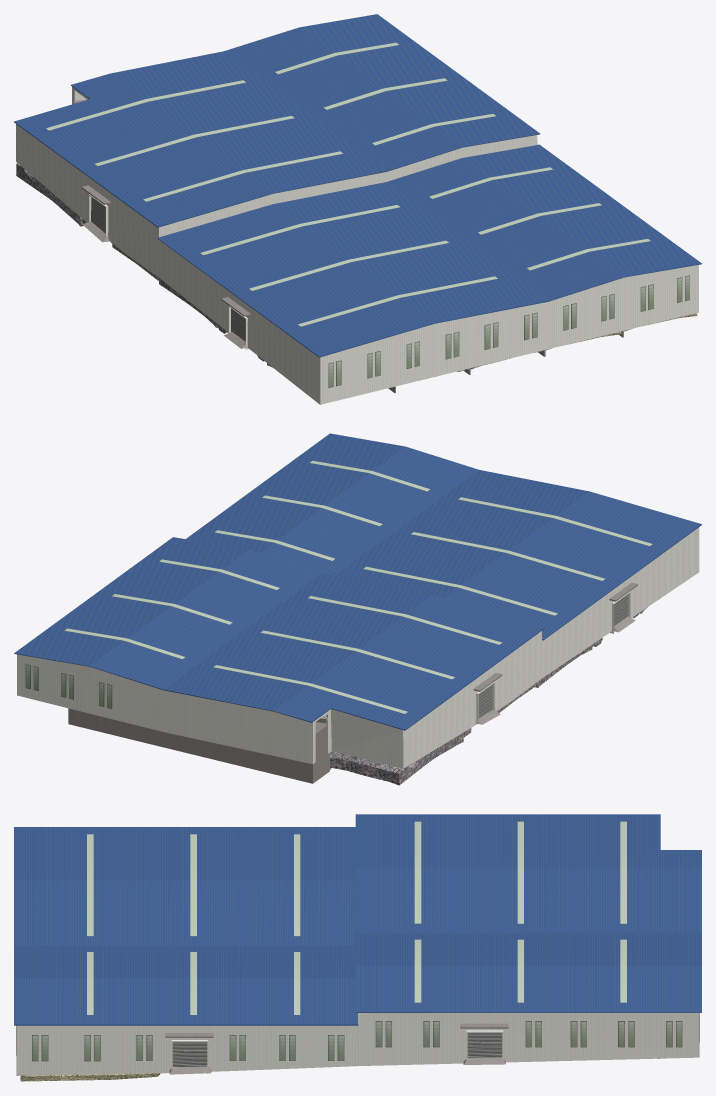
Rendered from 堆石厂.glb.
3 renders of one model, top to bottom at view 1: azimuth 30°, elevation 25°; view 2: azimuth 150°, elevation 25°; view 3: azimuth 270°, elevation 25°, orthographic. The views are drawn at different scales.
Visible parts, largest first — view 1: 堆石场一房顶, 堆石场一外墙; view 2: 堆石场一房顶, 堆石场一外墙, 堆石分离格子, 堆石LED1石头100; view 3: 堆石场一房顶, 堆石场一外墙, 堆石LED17石头100.
Part boxes in pixels (<box>): 堆石场一房顶: <box>14,14,701,357</box>; 堆石场一外墙: <box>16,86,698,404</box>; 堆石场一房顶: <box>14,433,701,730</box>; 堆石场一外墙: <box>17,527,699,768</box>; 堆石分离格子: <box>68,686,538,783</box>; 堆石LED1石头100: <box>330,728,471,785</box>; 堆石场一房顶: <box>14,814,701,1025</box>; 堆石场一外墙: <box>16,1013,699,1075</box>; 堆石LED17石头100: <box>21,1073,160,1081</box>.
Size of the model in its own units: 110 by 19.97 by 158.
15 materials, 12 textured.
